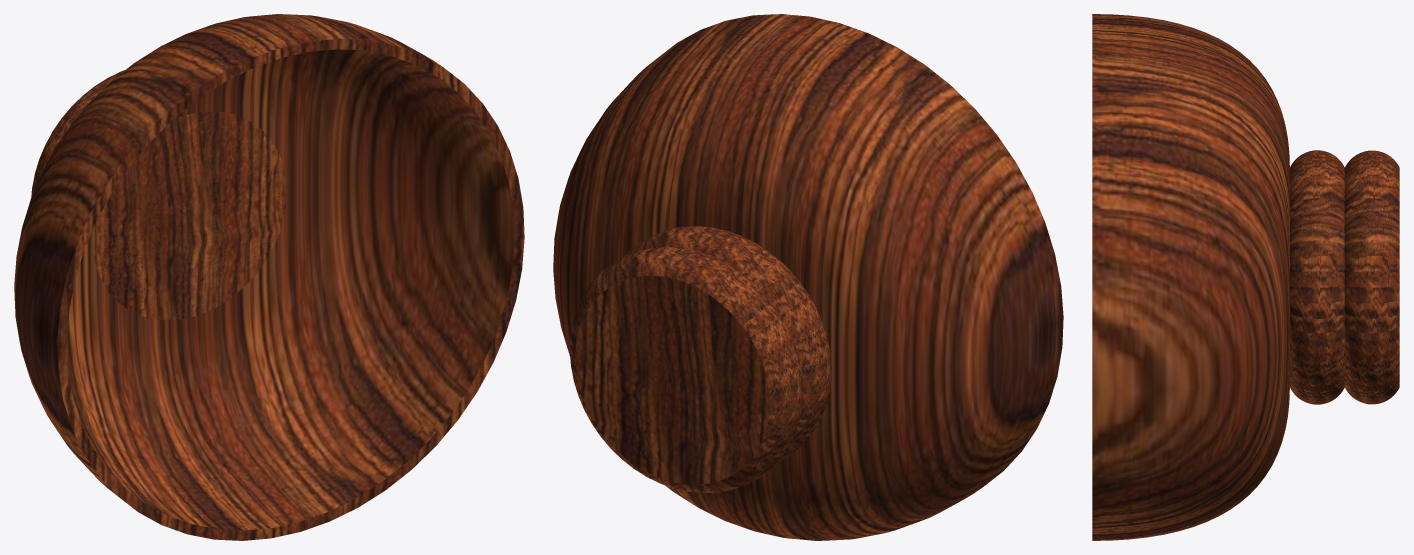
Rendered from bowl.obj.
3 renders of one model, left to right at view 1: azimuth 30°, elevation 25°; view 2: azimuth 150°, elevation 25°; view 3: azimuth 270°, elevation 25°, orthographic. The views are drawn at different scales.
Size of the model in its own units: 0.18 by 0.1798 by 0.105.
Materials: 1 (1 with a texture image).
